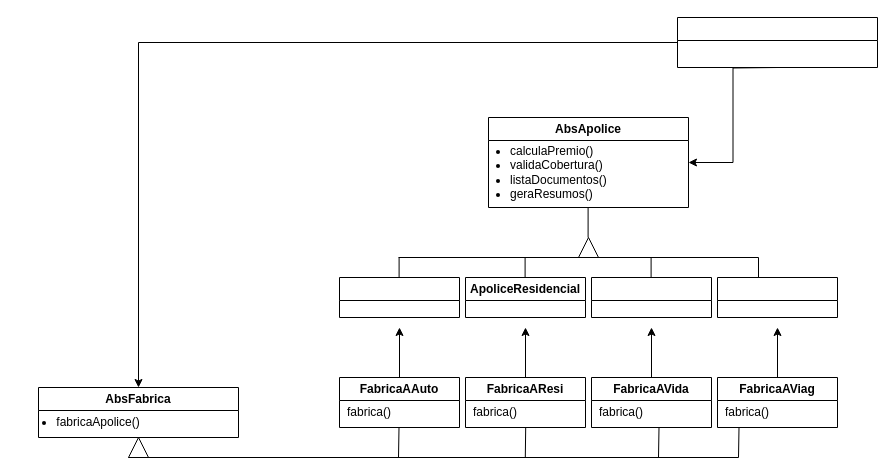
The diagram is 895 pixels wide and 476 high, and some of its shapes have lost their labels. Each missing label, with the centre of its shape:
"ApoliceAuto" goes at point 399,297.
"ApoliceViagem" goes at point 777,297.
"ApoliceVida" goes at point 651,297.
"Criador" goes at point 777,42.
